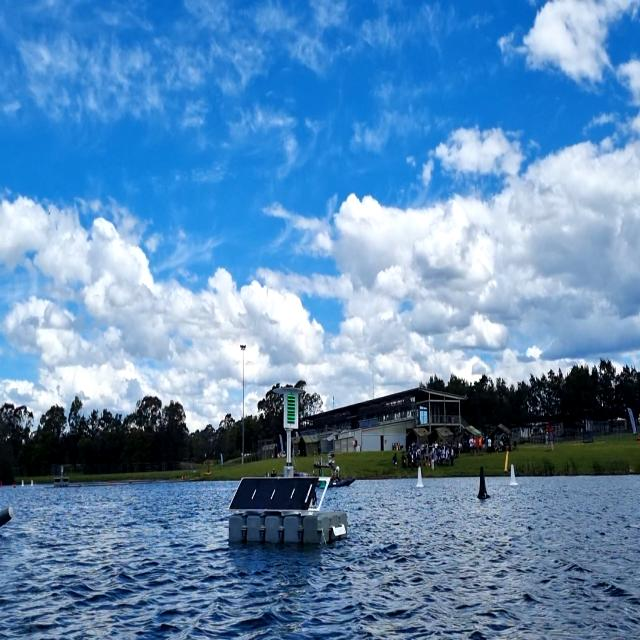led: (285, 392, 297, 428)
